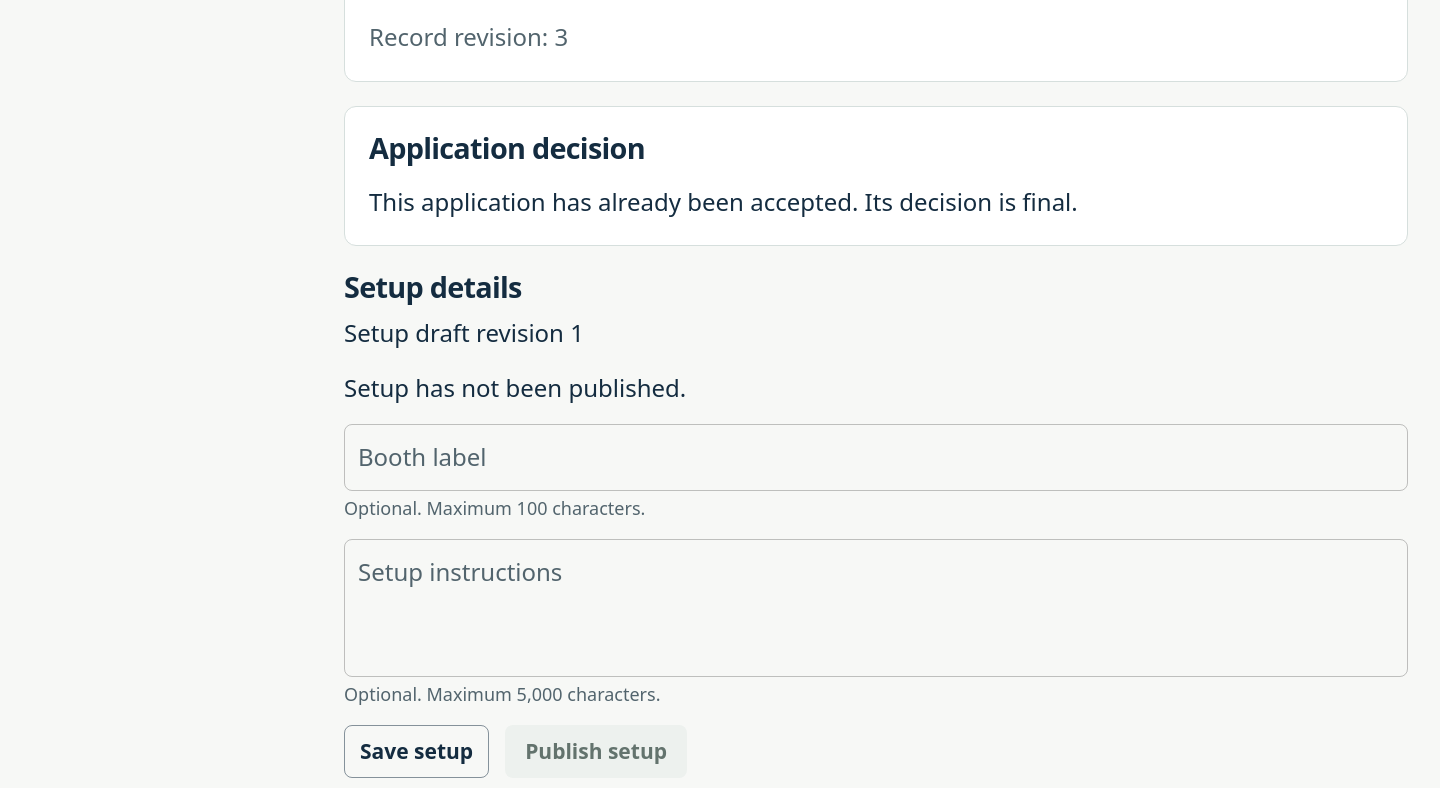
it: AC05 mismatch requires review without automatic replay
(page scrolled)
Step 1. Type "PRIVATE-BOOTH-A1" into the field labelled "Booth label" → point(876, 458), box [344,424,1408,491]
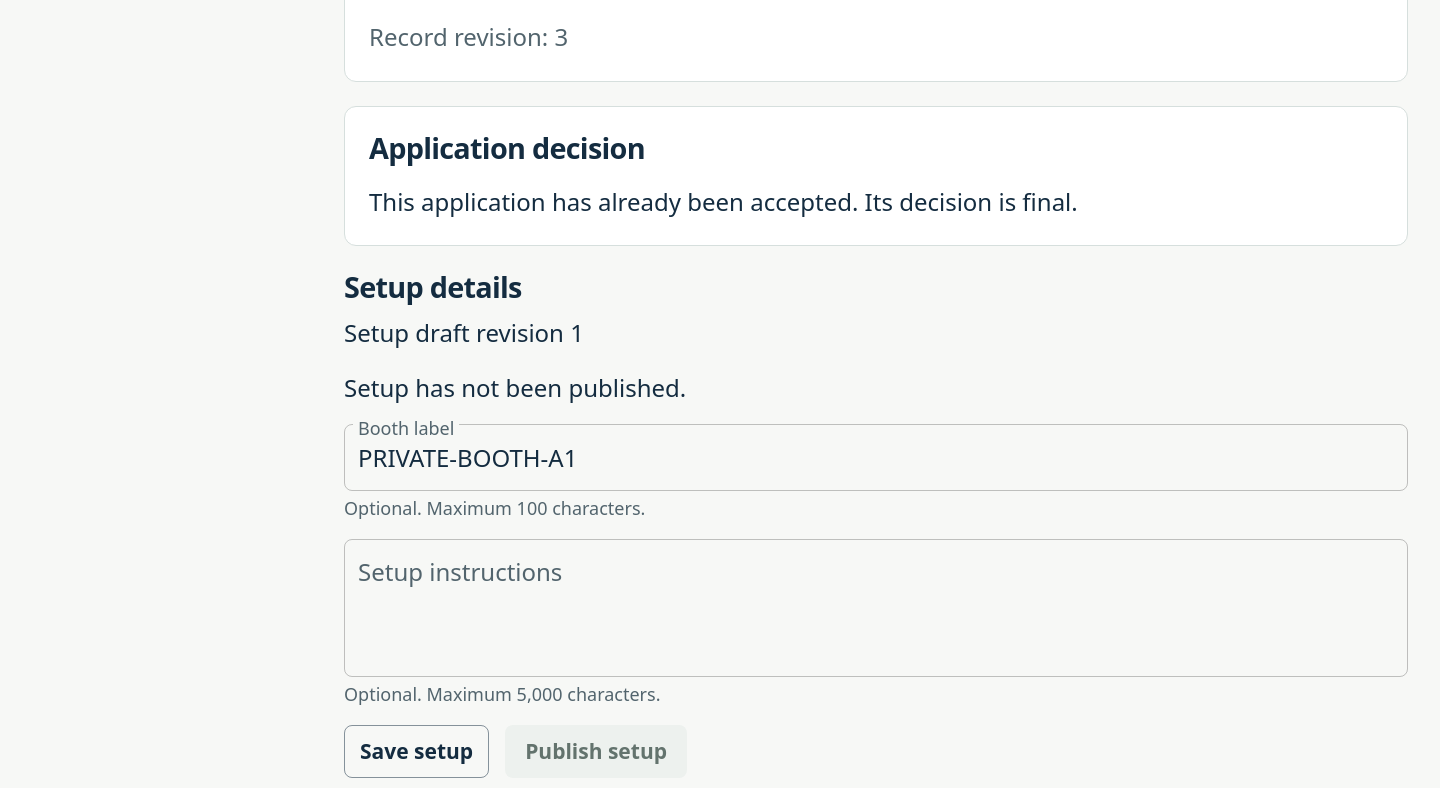
Step 2. Type "PRIVATE-SETUP-INSTRUCTIONS" into the text box labelled "Setup instructions" → point(876, 608), box [358,556,1394,661]
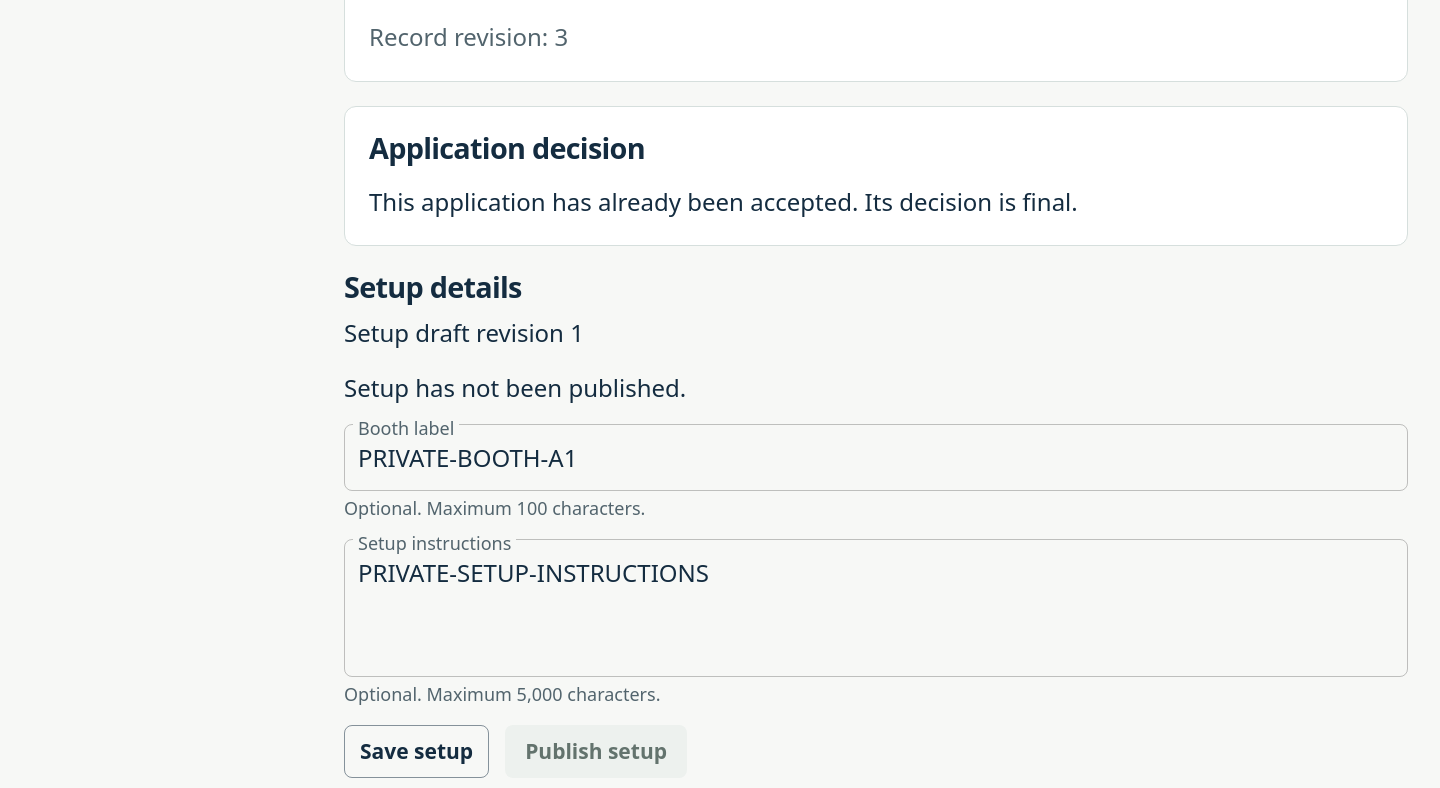
Step 3. Click the button "Save setup" → point(417, 752), box [344,725,489,778]
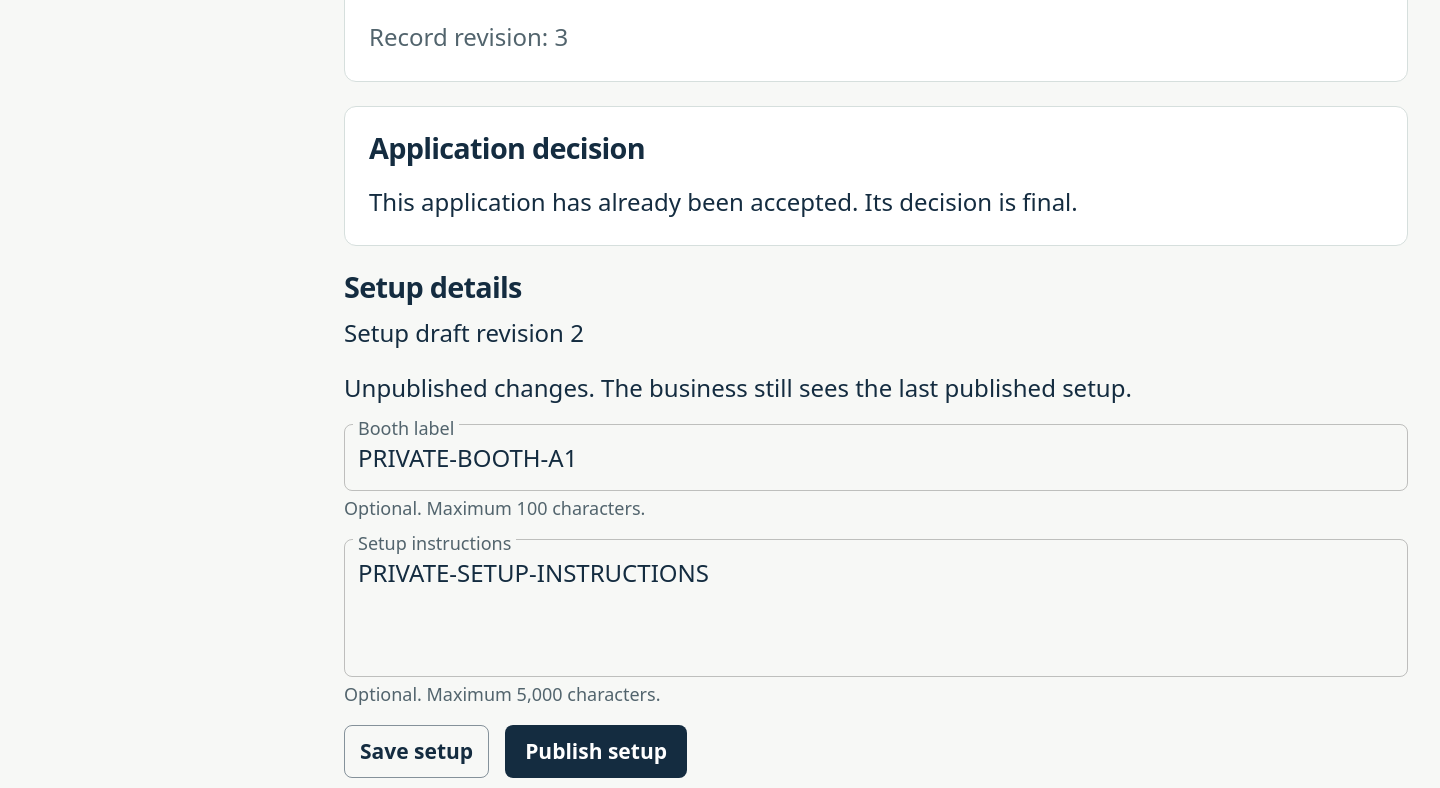
expect the button "Publish setup" is enabled: met
Step 4. Click the button "Publish setup" → point(596, 752), box [505,725,687,778]
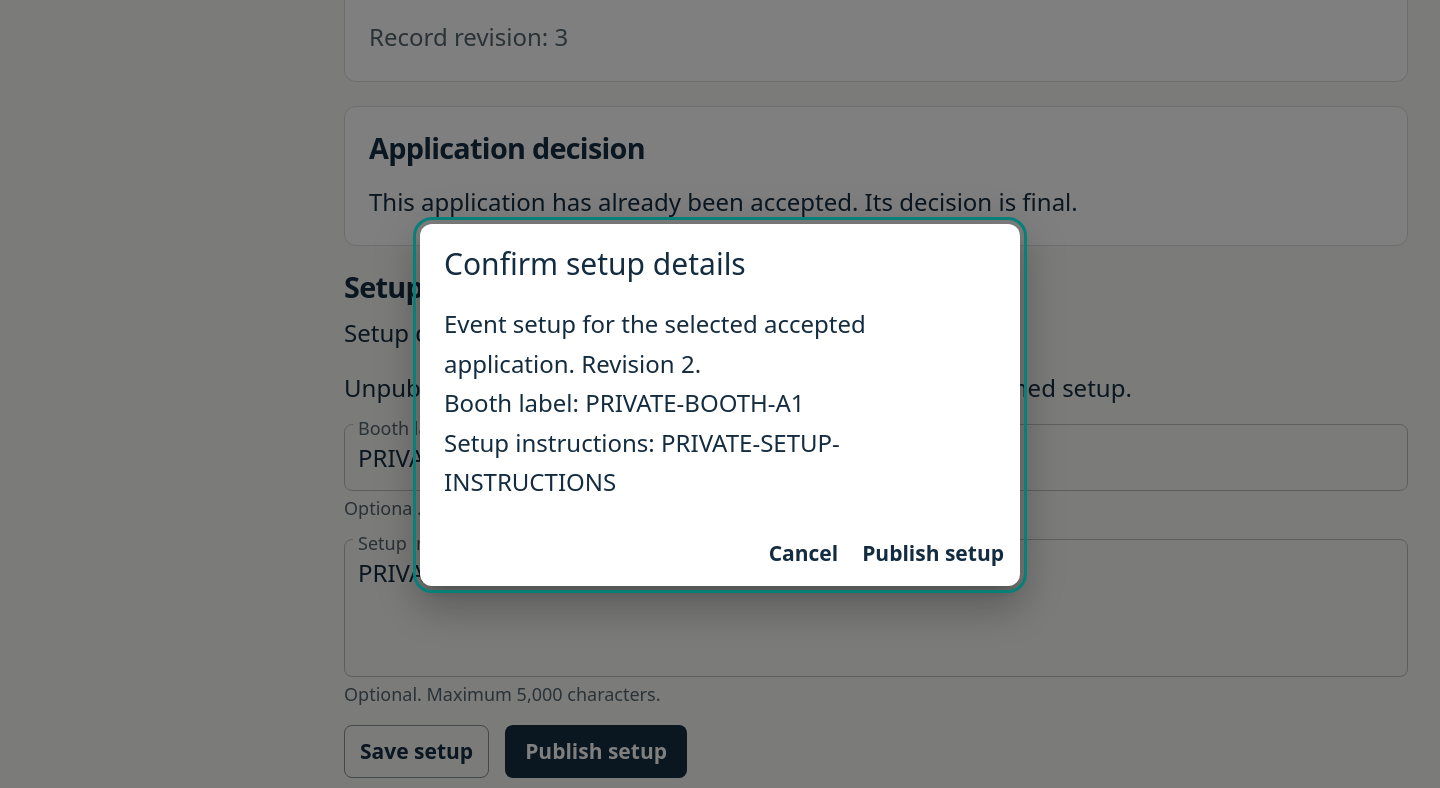
Step 5. Click the button "Publish setup" → point(933, 554), box [854,530,1012,578]
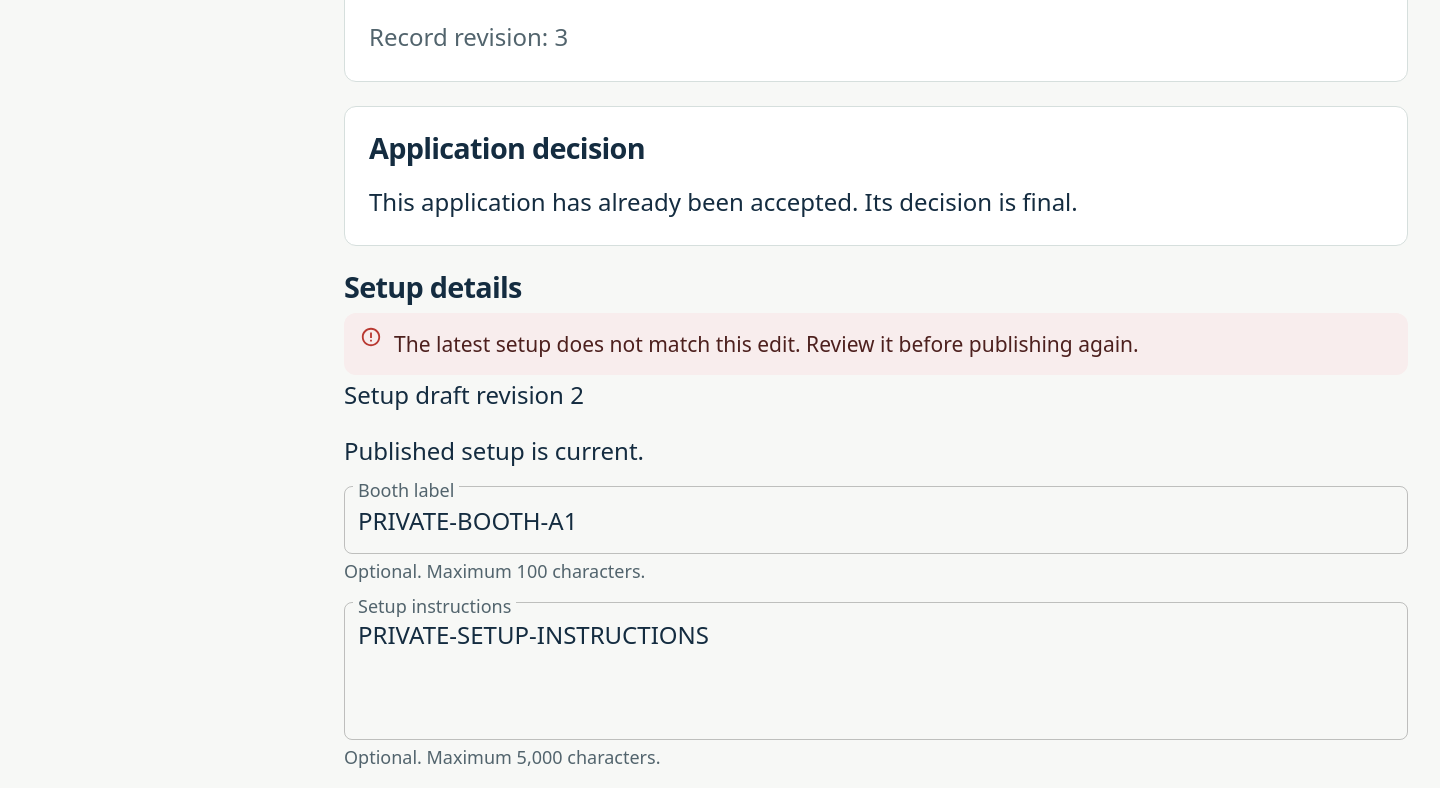
expect the message reads "The latest setup does not match this edit. Review it before publishing again.": met, box [394,330,1139,358]
expect the message "The latest setup does not match this edit. Review it before publishing again." is shown: met, box [344,313,1408,375]
